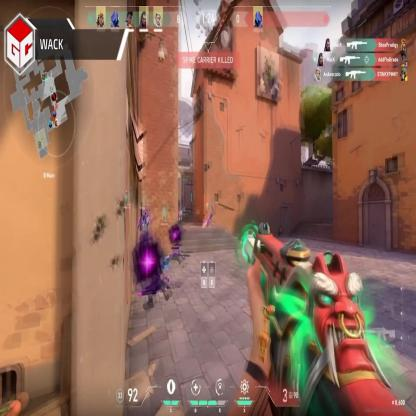enemy: (138, 208, 148, 259), (177, 204, 183, 225)
enemy_head: (142, 208, 146, 218), (179, 204, 181, 210)
